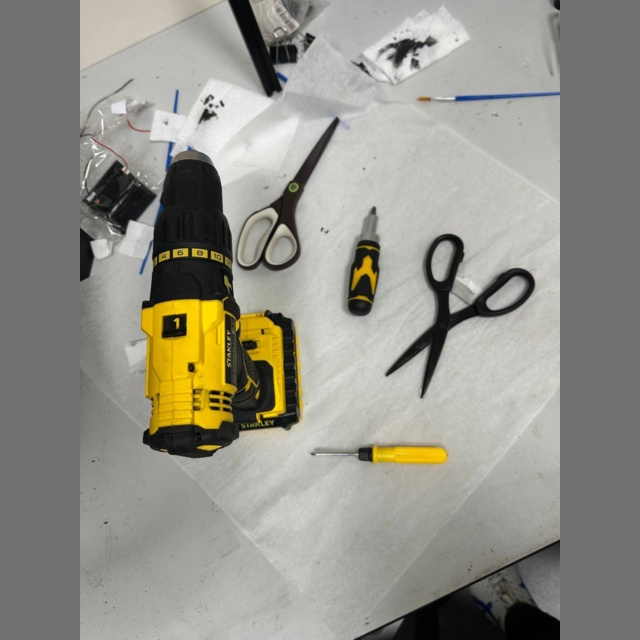drill: (141, 151, 300, 458)
scissor: (386, 234, 535, 397), (237, 117, 338, 269)
screwdriver: (349, 206, 380, 316), (310, 446, 447, 464)
